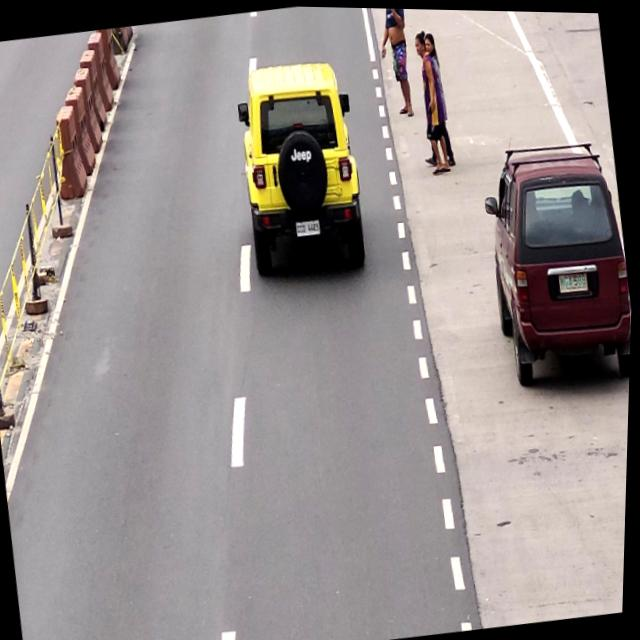Car: (481, 138, 632, 381), (227, 54, 371, 276)
License-Plate: (559, 265, 592, 292), (294, 216, 324, 239)
